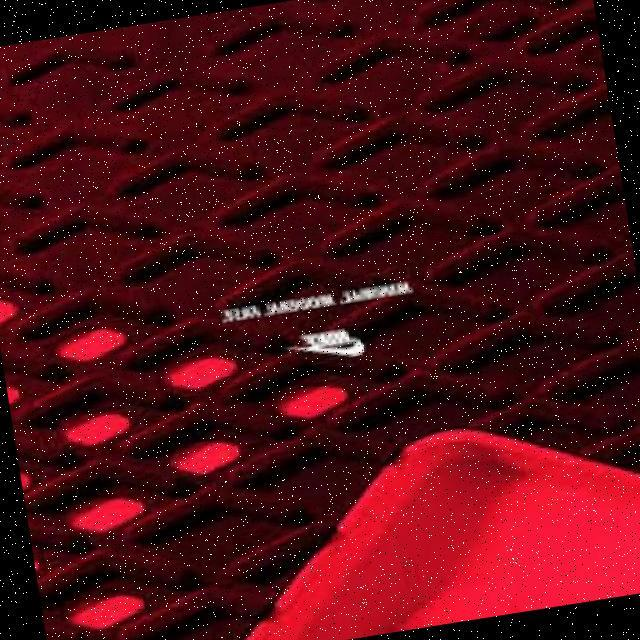Nike: (282, 318, 377, 366)
